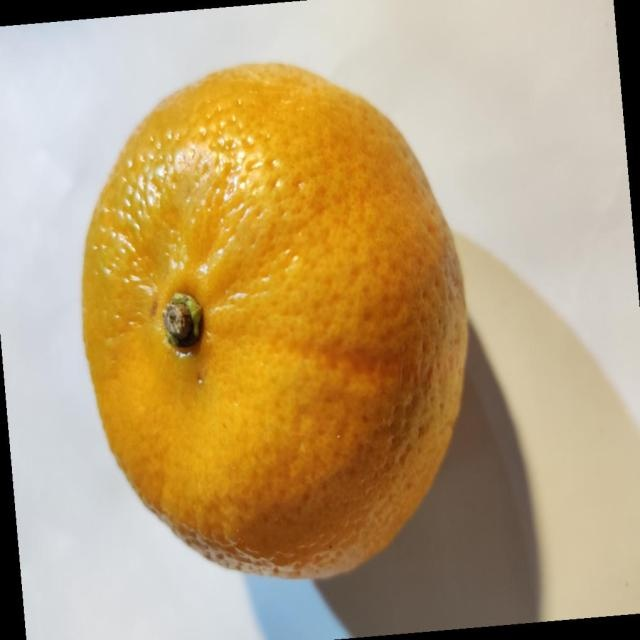agrume: (80, 60, 470, 580)
